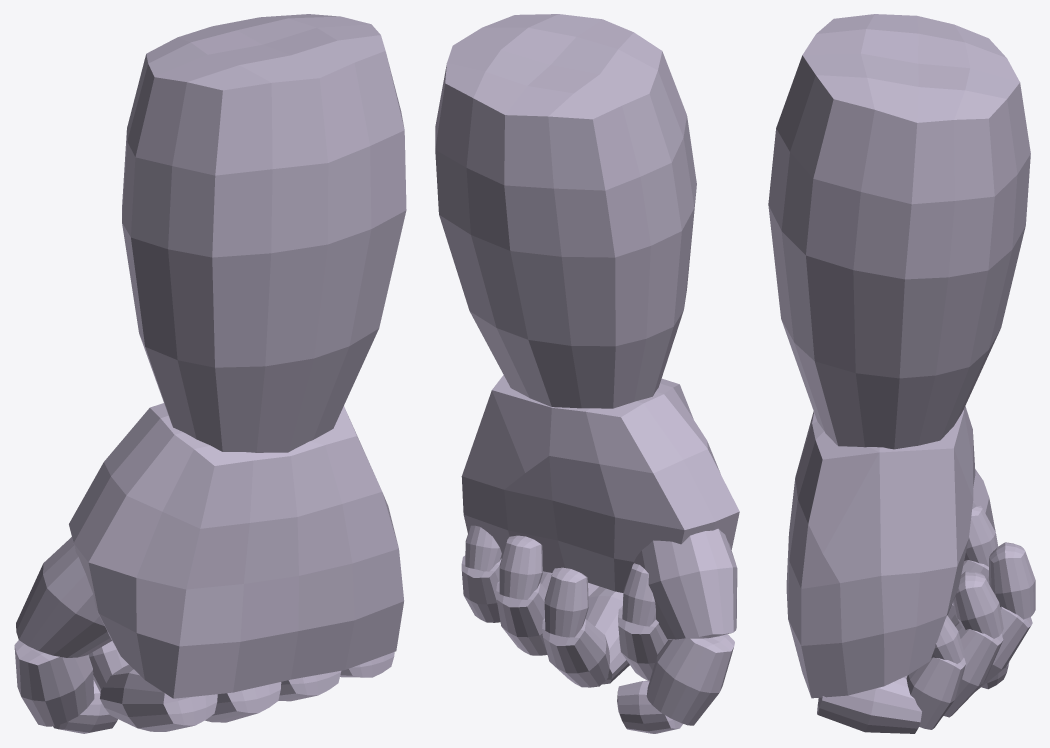
File: TruePunch_model.fbx
The picture shows the model from 3 angles, left to right: view 1: azimuth 30°, elevation 25°; view 2: azimuth 150°, elevation 25°; view 3: azimuth 270°, elevation 25°; orthographic projection. The views are drawn at different scales.
Visible parts, largest first — view 1: TruePunch; view 2: TruePunch; view 3: TruePunch.
Part boxes in pixels (left/top/right/bottom): TruePunch: left=14, top=14, right=406, bottom=733; TruePunch: left=435, top=14, right=739, bottom=733; TruePunch: left=768, top=14, right=1035, bottom=733.
Bounding box in the file's own units: 201 × 384 × 134.
